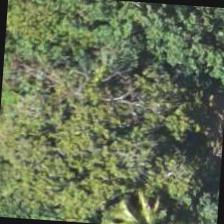Kelapa_Sawit: (102, 176, 197, 223)
